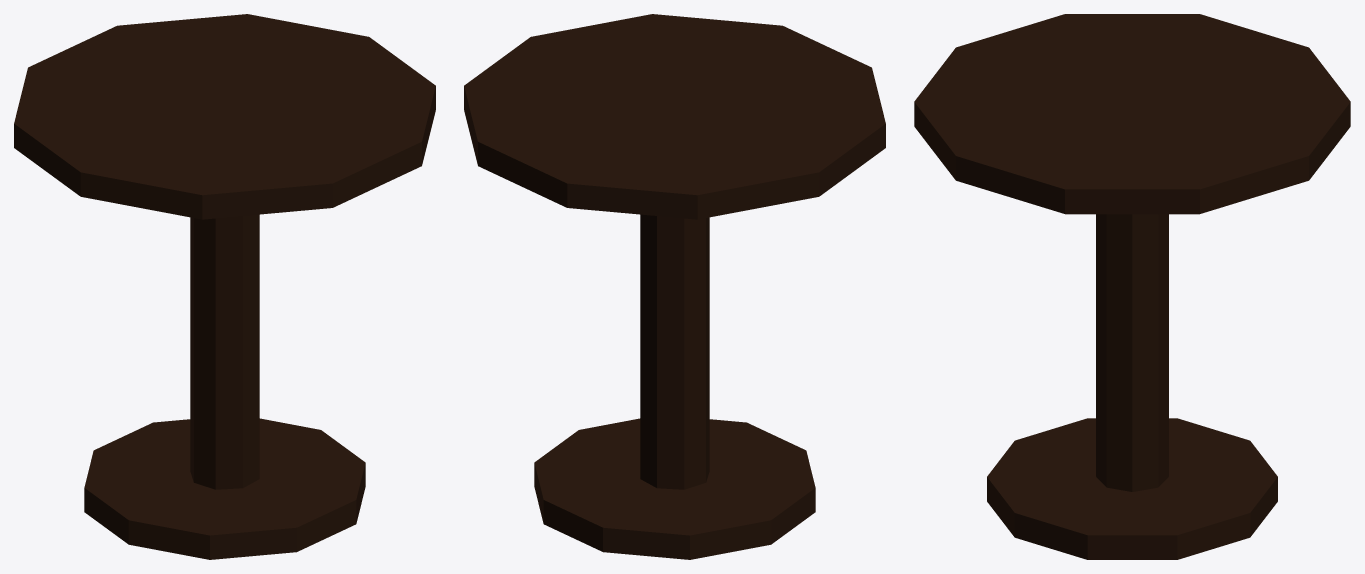
Rendered from welt_beistelltisch.glb.
3 views of the same model, side by side, from view 1: azimuth 30°, elevation 25°; view 2: azimuth 150°, elevation 25°; view 3: azimuth 270°, elevation 25° (orthographic).
Visible parts, largest first — view 1: platte, fuss, saeule; view 2: platte, fuss, saeule; view 3: platte, fuss, saeule.
Boxes of the visible parts, <box> form: platte: <box>14,14,435,219</box>; fuss: <box>84,418,365,559</box>; saeule: <box>190,214,259,489</box>; platte: <box>464,14,885,219</box>; fuss: <box>534,418,815,559</box>; saeule: <box>640,214,709,489</box>; platte: <box>914,14,1350,214</box>; fuss: <box>987,418,1277,559</box>; saeule: <box>1096,214,1168,491</box>.
Bounding box in the file's own units: 0.4565 × 0.485 × 0.48.
